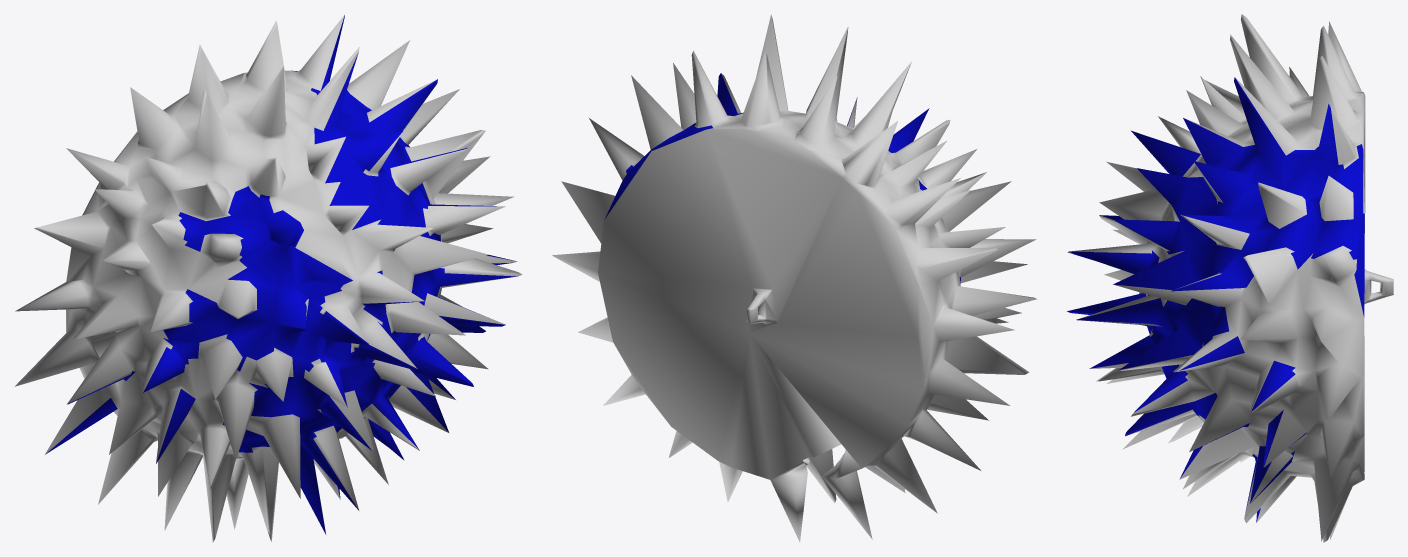
File: tri_hard.obj
3 views of the same model, side by side, from view 1: azimuth 30°, elevation 25°; view 2: azimuth 150°, elevation 25°; view 3: azimuth 270°, elevation 25° (orthographic). The views are drawn at different scales.
Visible parts, largest first — view 1: 15734_Spiked_Hemisphere_v1; view 2: 15734_Spiked_Hemisphere_v1; view 3: 15734_Spiked_Hemisphere_v1.
Boxes of the visible parts, x1=… form: 15734_Spiked_Hemisphere_v1: x1=15, y1=14, x2=522, y2=542; 15734_Spiked_Hemisphere_v1: x1=552, y1=14, x2=1037, y2=542; 15734_Spiked_Hemisphere_v1: x1=1067, y1=14, x2=1393, y2=542.
Size of the model in its own units: 1 by 1 by 0.5995.
